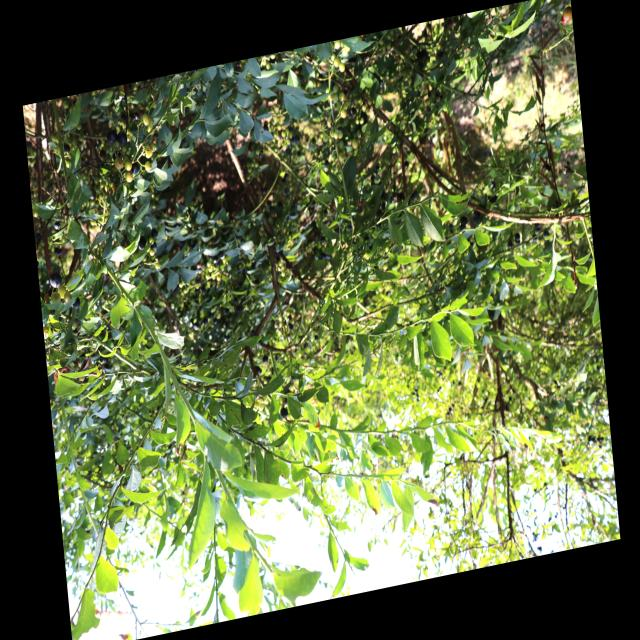blueberry: (49, 268, 65, 290), (105, 127, 119, 146), (116, 130, 128, 149), (70, 295, 83, 312), (136, 236, 147, 254), (131, 160, 142, 176), (150, 239, 162, 253), (326, 80, 337, 94), (98, 147, 108, 161), (149, 228, 159, 242), (252, 363, 263, 375), (246, 140, 256, 153), (280, 406, 289, 420), (336, 125, 346, 137), (408, 192, 418, 204), (349, 106, 358, 118), (261, 353, 270, 365), (345, 221, 355, 231), (217, 251, 227, 261), (53, 220, 62, 231), (257, 148, 266, 159), (376, 76, 384, 88), (282, 172, 290, 184), (320, 248, 328, 260), (63, 144, 72, 154), (334, 226, 343, 236), (375, 220, 384, 229), (284, 147, 292, 157), (288, 135, 296, 145), (288, 124, 296, 134), (260, 186, 268, 196), (284, 185, 291, 196), (382, 192, 389, 202), (193, 322, 200, 332), (119, 113, 126, 122), (266, 199, 273, 208), (212, 255, 219, 264), (134, 111, 140, 121), (288, 323, 294, 333), (286, 314, 293, 322), (128, 114, 134, 123), (294, 134, 300, 143), (405, 159, 410, 169), (208, 312, 215, 319), (305, 136, 311, 144), (313, 335, 319, 343), (202, 317, 208, 325), (270, 206, 276, 213), (200, 285, 206, 292), (311, 138, 316, 146), (297, 151, 302, 158), (324, 210, 329, 216), (312, 200, 316, 206)
blueberry-unripe: (50, 290, 61, 305), (58, 285, 68, 299), (114, 156, 123, 170), (124, 158, 133, 172), (142, 112, 151, 126), (124, 171, 134, 183), (332, 56, 340, 69), (145, 146, 153, 158), (64, 292, 72, 304), (144, 160, 152, 171), (351, 138, 358, 150), (340, 108, 347, 119), (338, 91, 345, 102), (331, 93, 338, 104), (334, 40, 341, 51), (338, 152, 345, 162), (339, 62, 345, 73), (148, 248, 154, 257)
